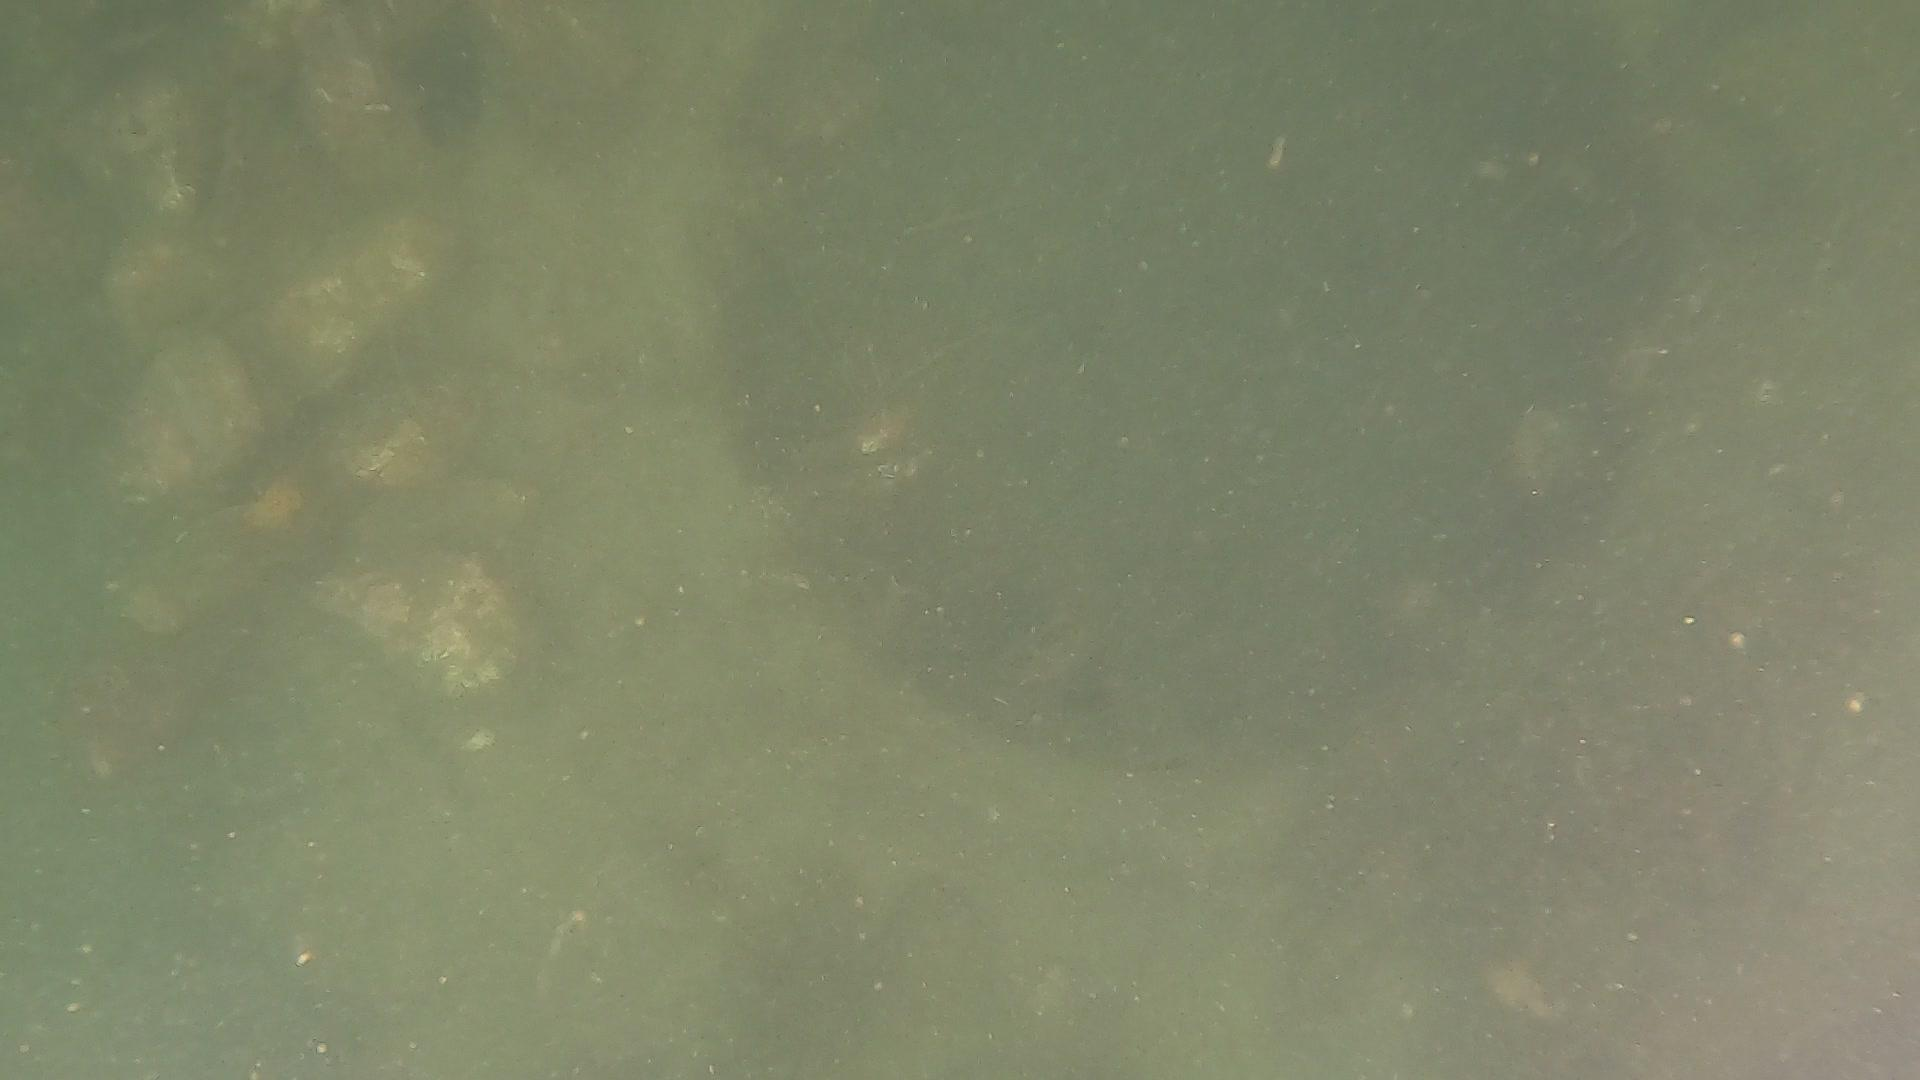tire: (199, 0, 1920, 1080)
